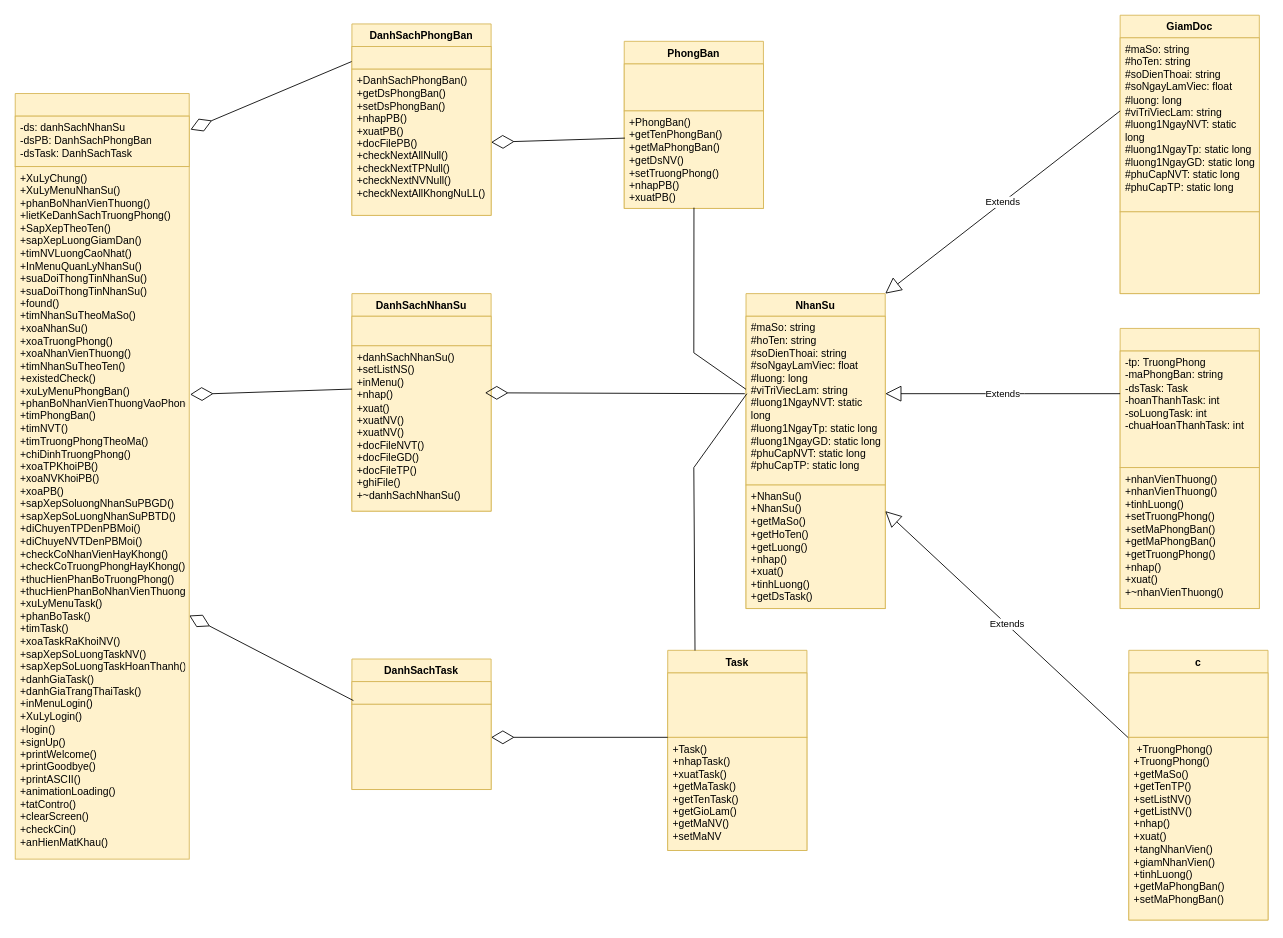
This 1283x938 diagram has some shape labels left out. The shapes that lost their labels are listed below. From the top down, each one's box as (x1, y1, x2, y2) in pixels, then its label:
(351, 46, 491, 69): -dsPhongBan: PhongBan
(623, 63, 763, 111): -tenPhongBan: string -maPhongBan: string -dsNV: NhanVienThuong
(14, 93, 189, 167): XuLy
(1119, 211, 1259, 294): +GiamDoc() +GiamDoc() +nhap() +xuat() +tinhLuong()
(351, 315, 491, 346): -ns: NhanSu -dsNhanSu: NhanSu
(1119, 328, 1259, 609): NVThuong
(351, 681, 491, 704): -dsTask: Task
(667, 672, 807, 737): -maTask: string -tenTask: string -gioLam: float -maNV: string
(1128, 672, 1268, 737): -soLuongNhanVien: Int -listNV: NhanVienThuong -maPhongBan: string
(351, 703, 491, 790): +DanhSachTask() +getDsTask() +setDSTask +nhapTask() +xuatTask() +docFileTask()
